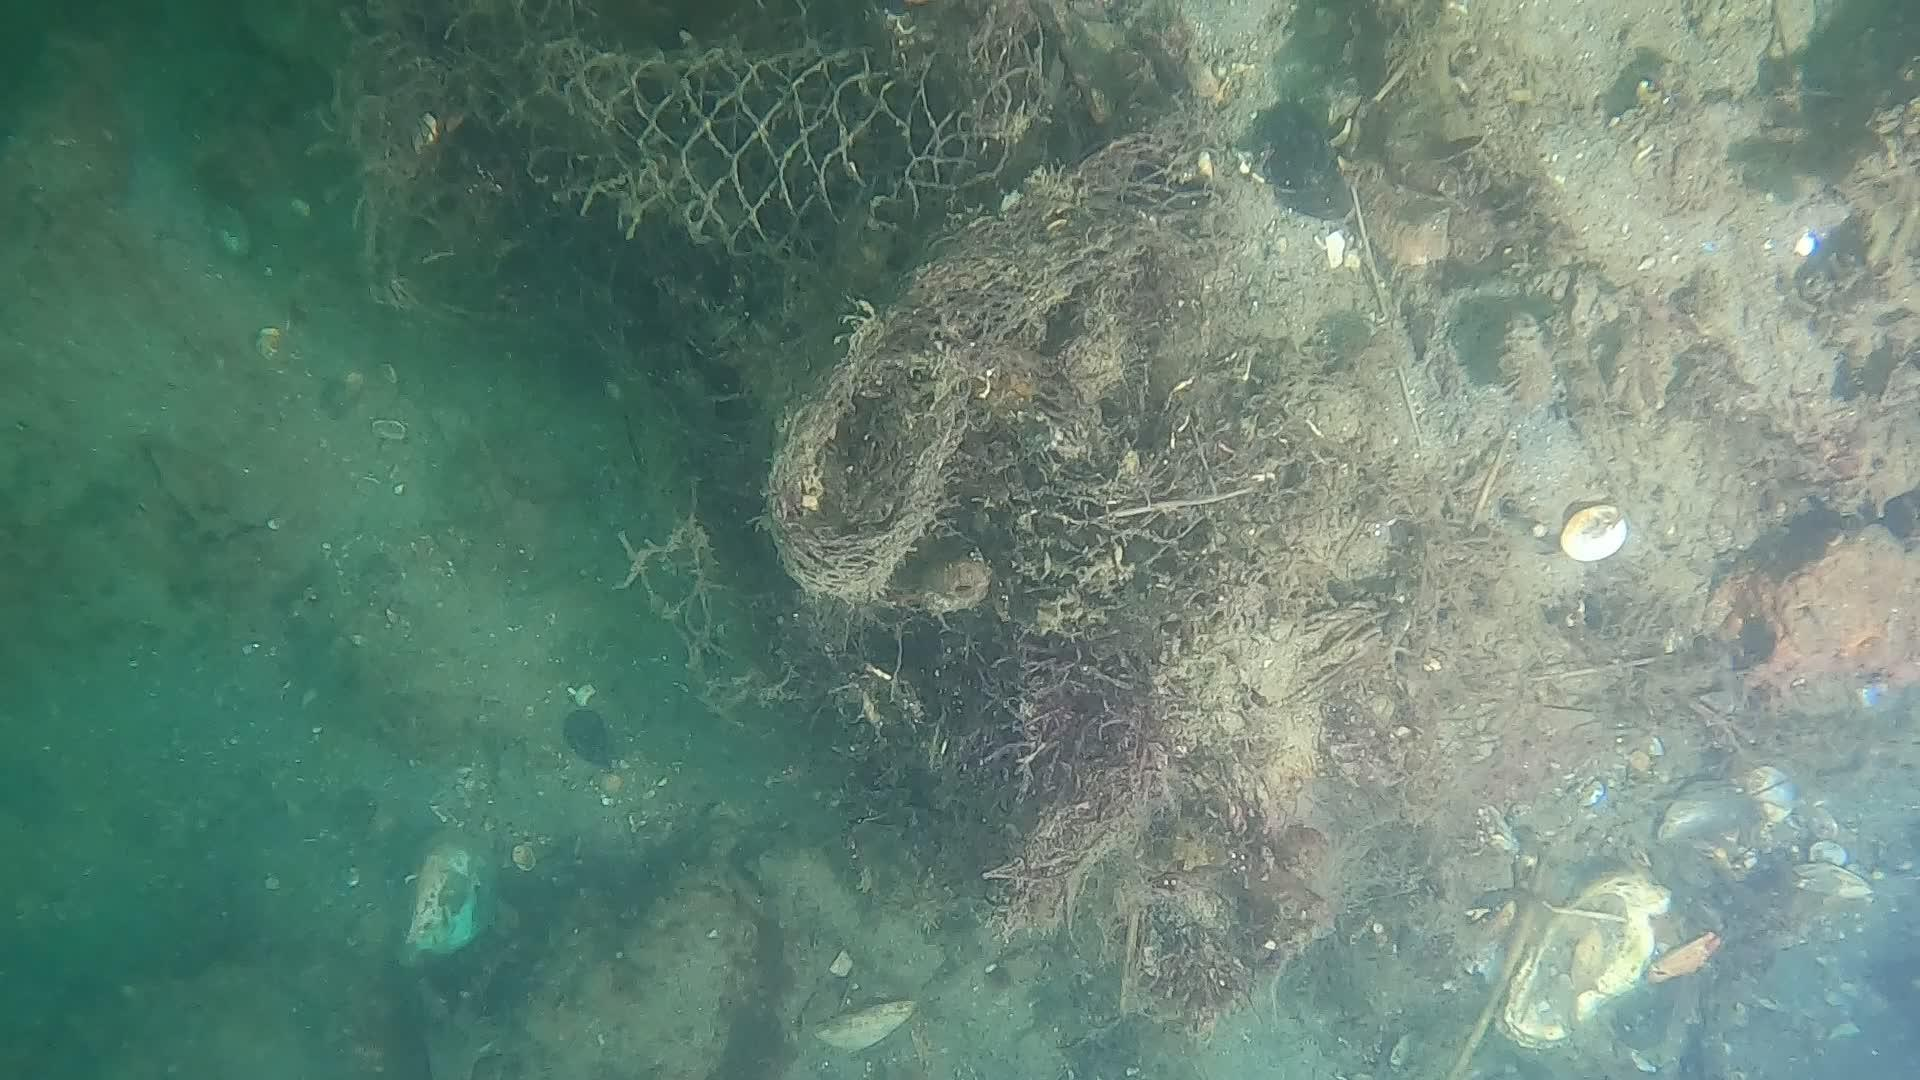fish net: (533, 36, 1044, 258), (1007, 502, 1217, 580), (1091, 125, 1221, 245)
